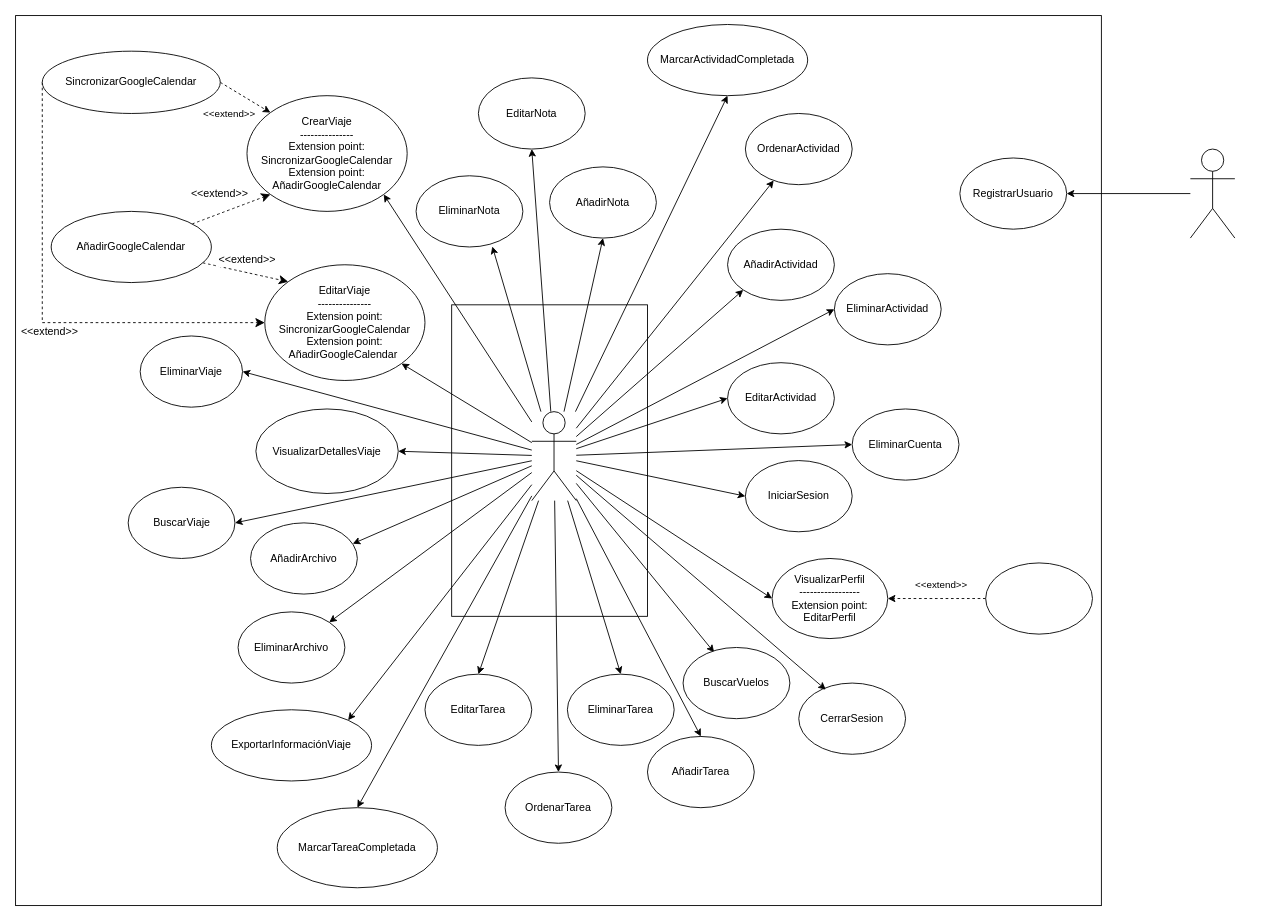
This 1279x921 diagram has some shape labels left out. The centre of each missing label's shape, as x and y in pixels:
"EditarPerfil" belongs at point 1038,598.
"Usuario no registrado" belongs at point 1212,193.
"Usuario registrado" belongs at point 553,456.
